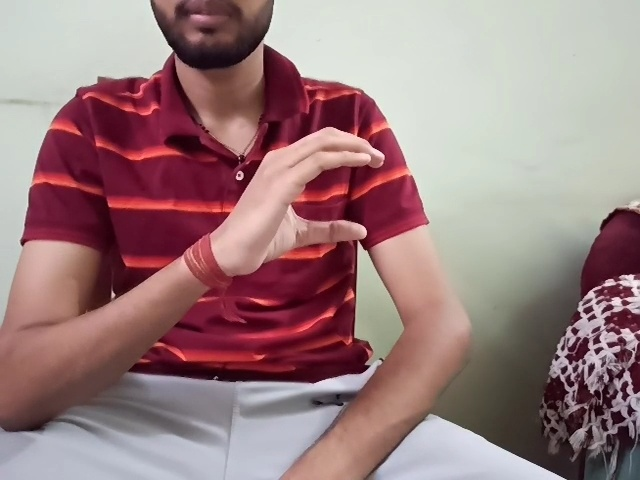C: (218, 126, 385, 278)
